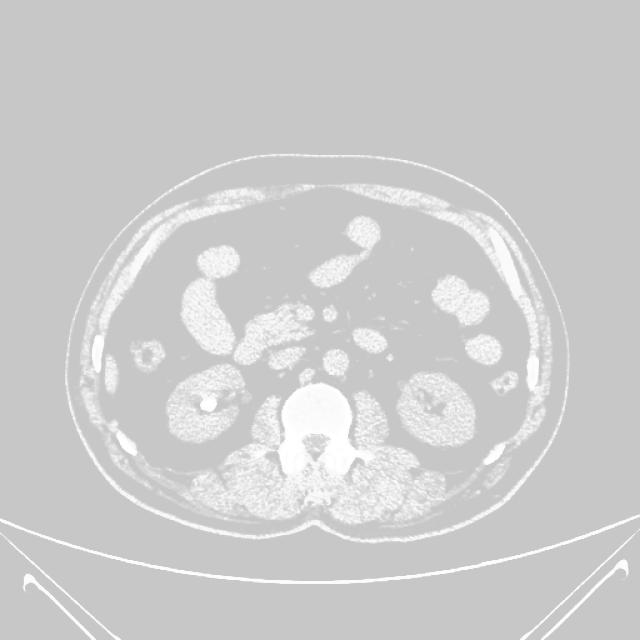STONE: (139, 332, 478, 477)
